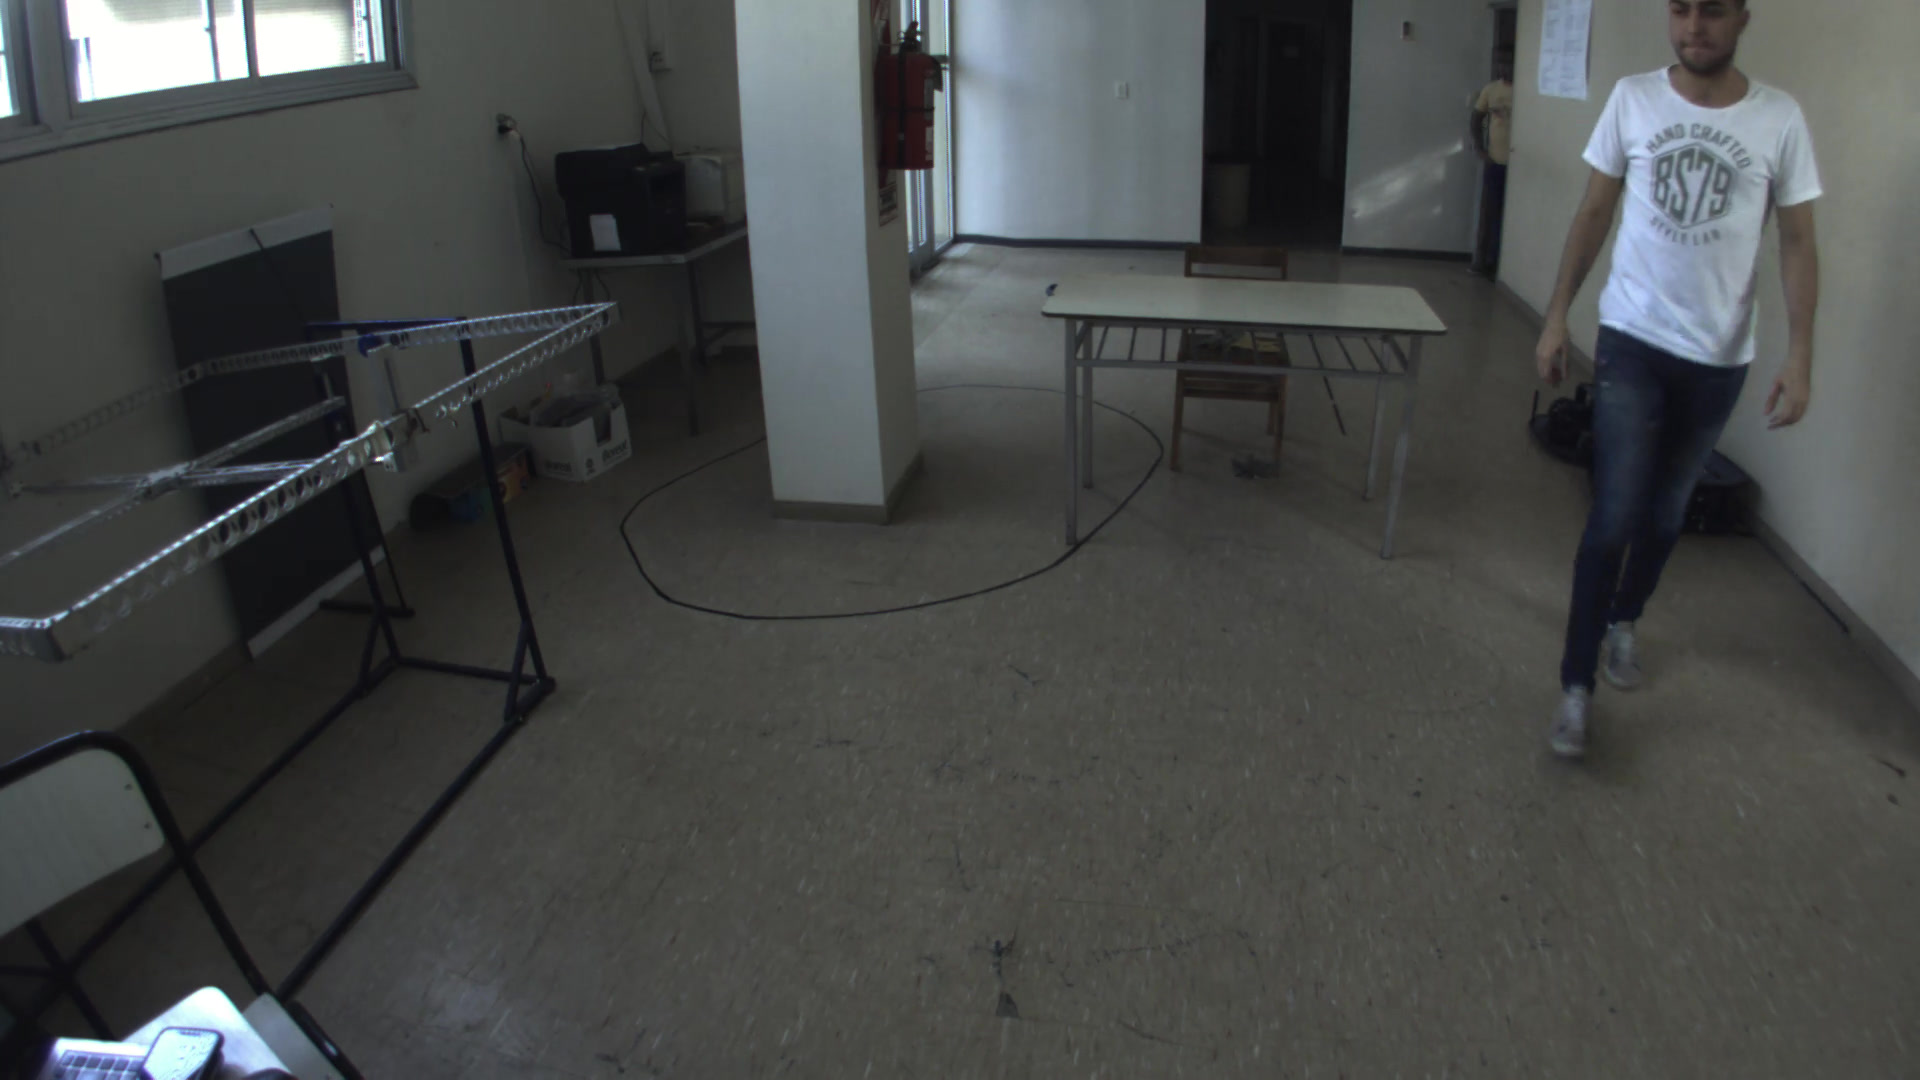hand: (1756, 355, 1817, 435), (1528, 319, 1585, 402)
